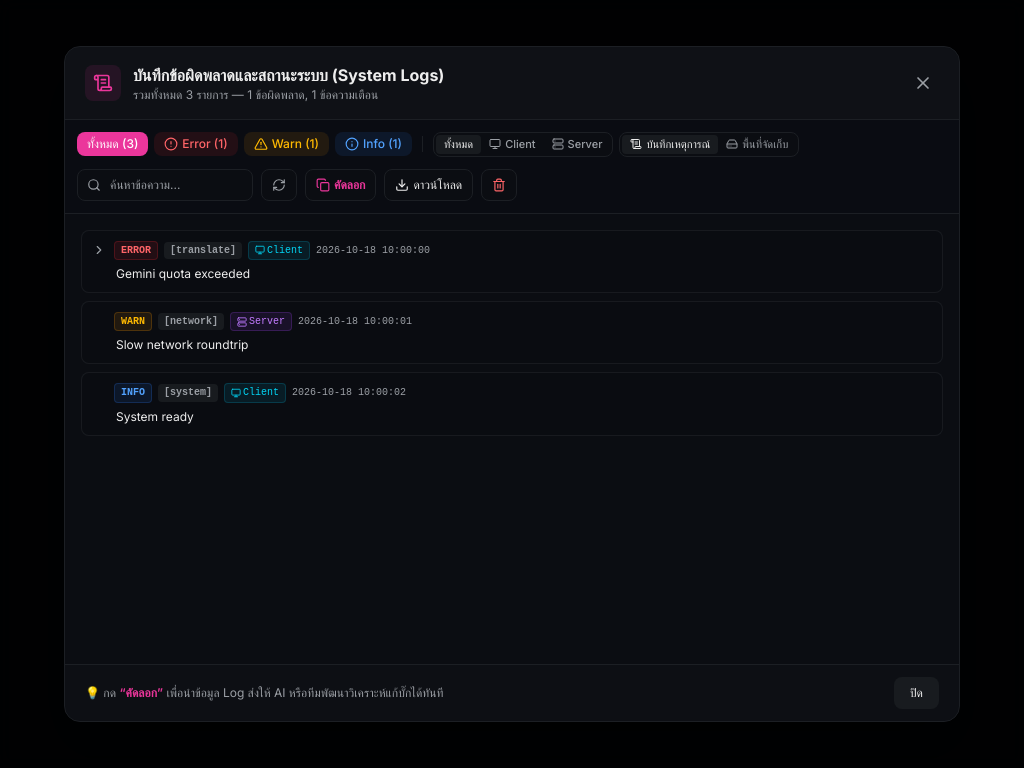
Test: SystemLogsModal › filters by search term
Type "quota" into the field with placeholder "ค้นหาข้อความ..." at (165, 185), box [77,169,253,201]
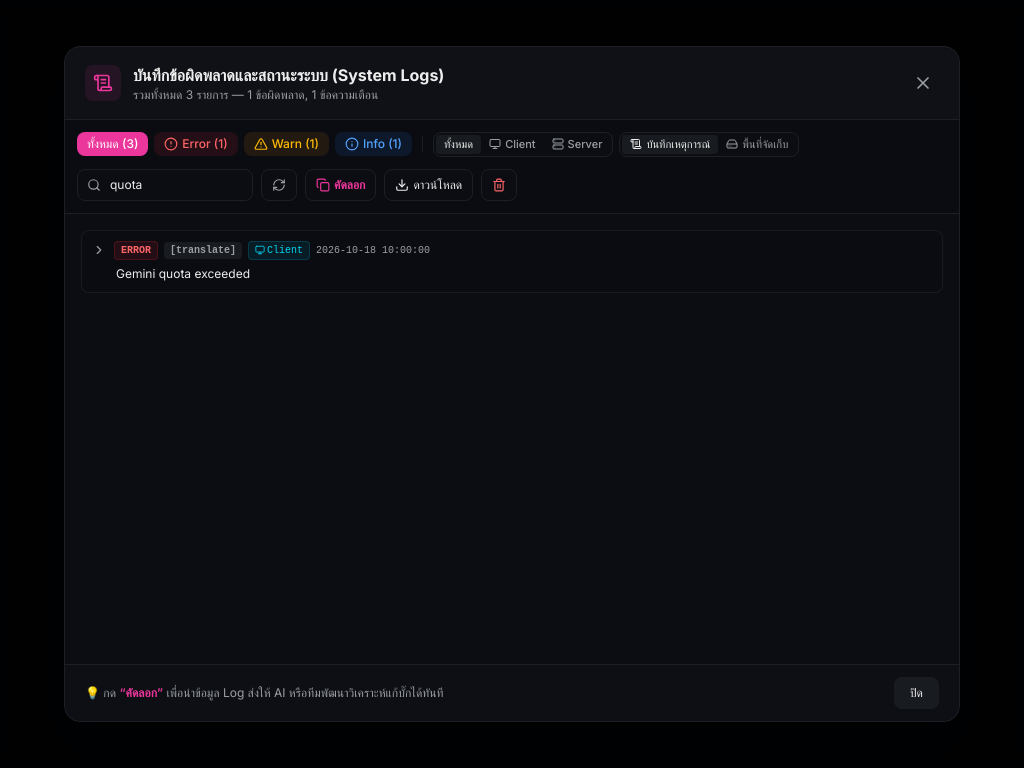
Expected: the text "Gemini quota exceeded" is shown, [116,266,250,281]
Now the text "Slow network roundtrip" is gone
